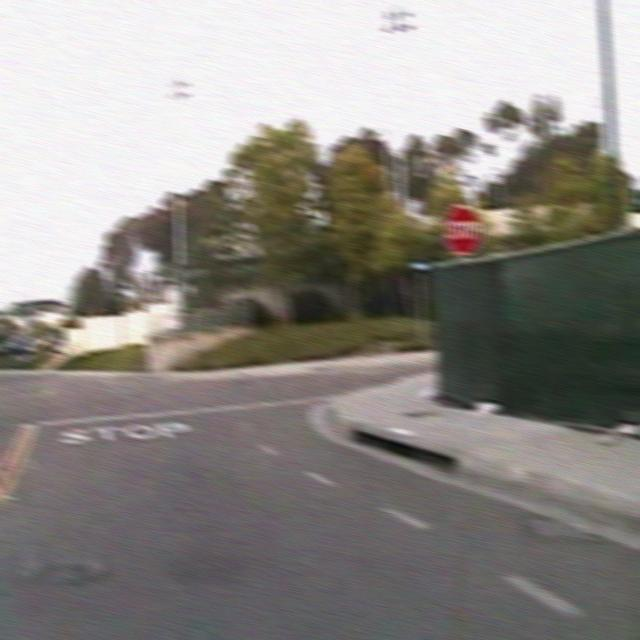stop: (439, 203, 484, 256)
